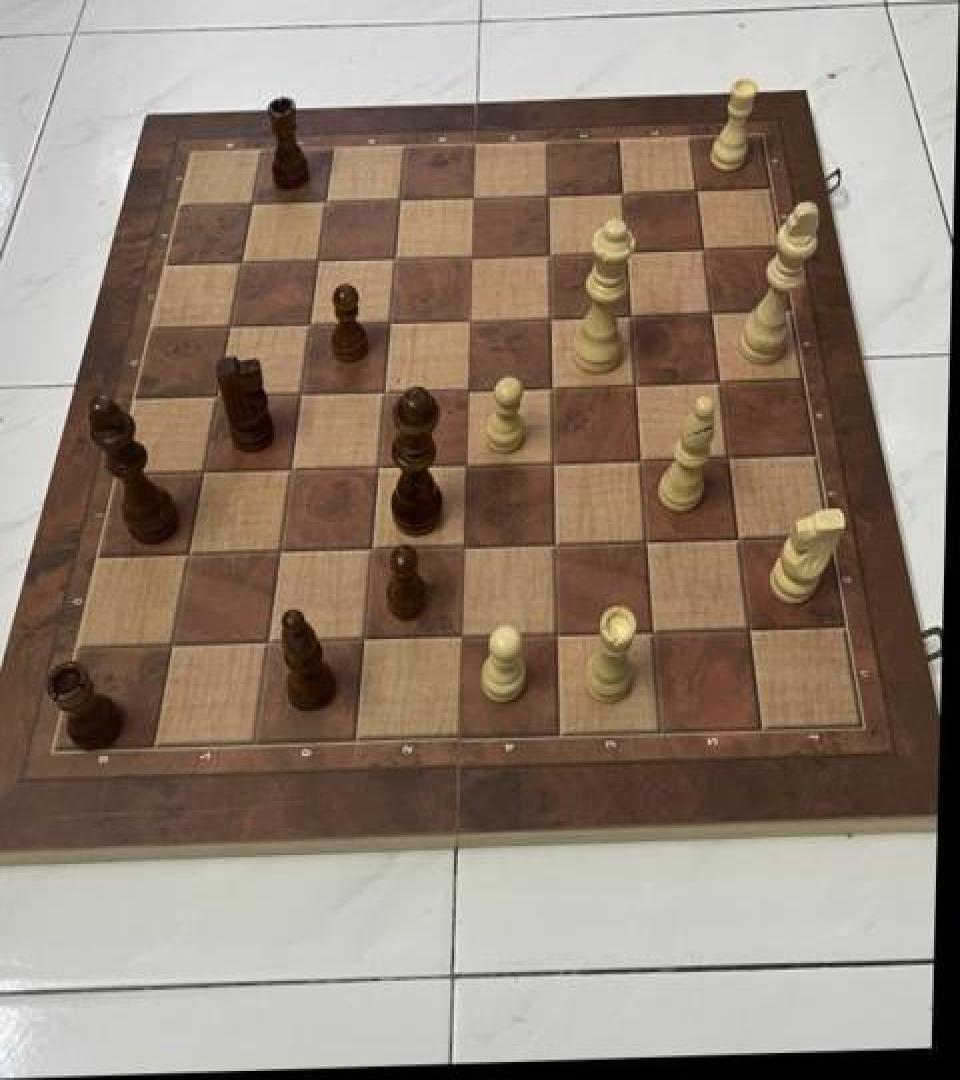xcorner: (312, 182, 346, 221), (534, 174, 568, 213), (697, 291, 731, 330), (369, 371, 403, 410), (238, 184, 272, 222), (386, 179, 420, 217), (460, 177, 494, 215), (609, 171, 643, 209), (683, 169, 717, 207), (227, 244, 261, 282), (303, 241, 337, 279), (381, 238, 415, 276), (458, 236, 492, 274), (535, 233, 569, 271), (612, 231, 646, 269), (690, 228, 724, 266), (214, 308, 248, 346), (295, 305, 329, 343), (375, 303, 409, 341), (455, 300, 489, 338), (536, 297, 570, 335), (616, 294, 650, 332), (201, 377, 235, 415), (285, 375, 319, 413), (452, 369, 486, 407), (536, 366, 570, 404), (620, 364, 654, 402), (705, 360, 739, 398), (187, 454, 221, 492), (274, 450, 308, 488), (362, 448, 396, 486), (449, 444, 483, 482), (537, 441, 571, 479), (625, 439, 659, 477), (713, 436, 747, 474), (171, 536, 205, 574), (263, 534, 297, 572), (354, 530, 388, 568), (446, 526, 480, 564), (538, 524, 572, 562), (630, 521, 664, 559), (722, 519, 756, 557), (154, 627, 188, 665), (250, 624, 284, 662), (346, 621, 380, 659), (442, 618, 476, 656), (539, 616, 573, 654), (635, 612, 669, 650), (732, 609, 766, 647)
